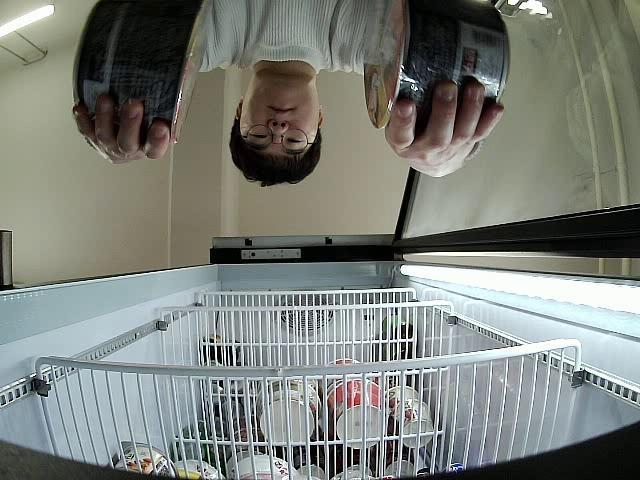07_buldak_L: (72, 0, 214, 145), (364, 0, 510, 129)
